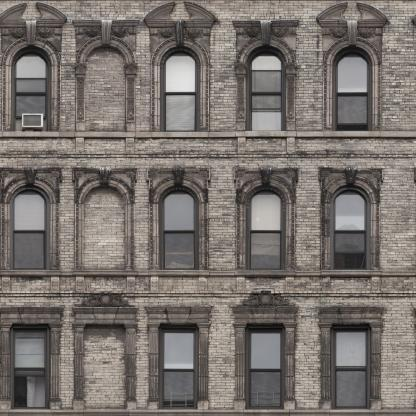Building Outline: (1, 0, 416, 416)
Cornice: (315, 1, 389, 57), (143, 1, 216, 57), (0, 2, 67, 57), (232, 20, 300, 64), (318, 167, 384, 204), (146, 167, 211, 204), (234, 167, 298, 204), (0, 167, 62, 204), (232, 291, 299, 323), (145, 306, 212, 323), (318, 306, 385, 323), (0, 307, 64, 323)
Deco: (72, 291, 139, 409), (72, 19, 140, 132), (72, 167, 137, 270)
Facade: (1, 0, 416, 415)
Floor: (1, 19, 415, 160), (1, 167, 415, 298), (1, 306, 415, 415)
Floor Slab: (1, 298, 415, 306), (1, 159, 415, 167), (1, 12, 415, 19)
Window: (161, 188, 196, 270), (163, 50, 198, 132), (333, 189, 368, 270), (12, 189, 47, 269), (13, 51, 48, 131), (335, 51, 370, 131), (13, 328, 47, 410), (249, 189, 283, 270), (334, 328, 368, 409), (162, 328, 196, 409), (249, 328, 283, 409), (249, 51, 283, 131)
